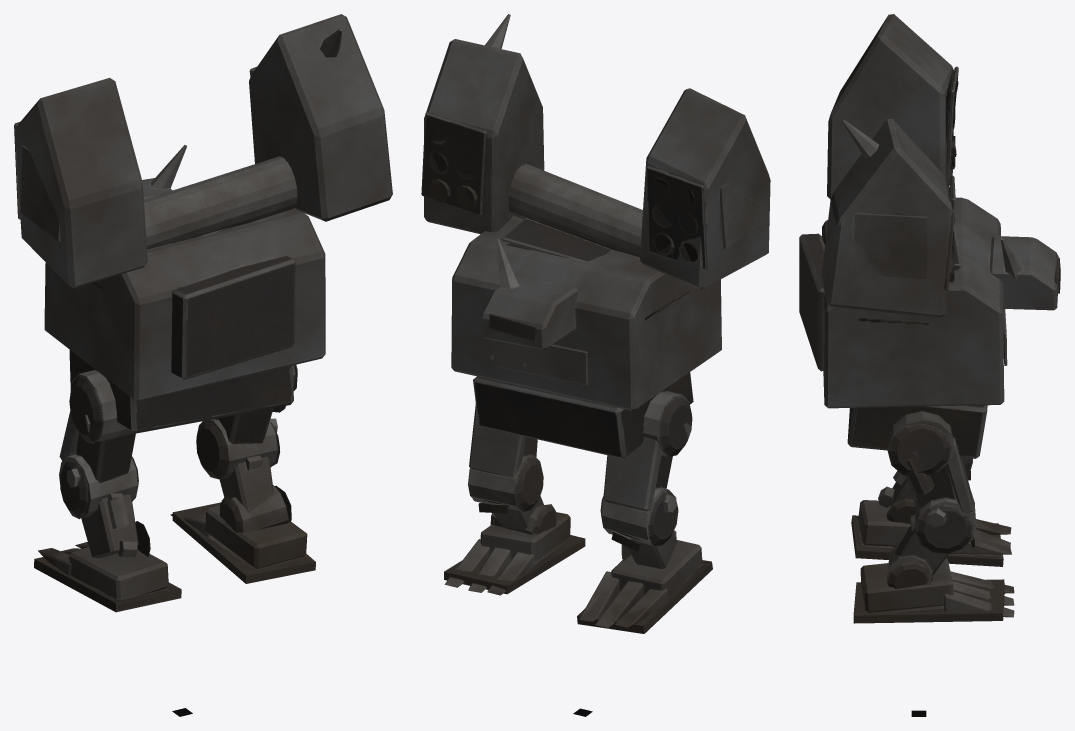
The model's file is chs_gargoyle_wreck.fbx.
3 views of the same model, side by side, from view 1: azimuth 30°, elevation 25°; view 2: azimuth 150°, elevation 25°; view 3: azimuth 270°, elevation 25° (orthographic). The views are drawn at different scales.
Parts seen in each view (by area): view 1: launcher_bar, torso_bar, thighL_bar, base_bar, footL_bar, footR_bar, thighR_bar, shinR_bar, shinL_bar; view 2: launcher_bar, torso_bar, base_bar, thighL_bar, footL_bar, footR_bar, thighR_bar, shinR_bar, shinL_bar; view 3: launcher_bar, torso_bar, thighR_bar, footR_bar, footL_bar, base_bar, shinR_bar, shinL_bar.
Boxes of the visible parts, left/top/right/bottom form: launcher_bar: left=14, top=14, right=392, bottom=288; torso_bar: left=44, top=145, right=325, bottom=401; thighL_bar: left=59, top=370, right=138, bottom=519; base_bar: left=69, top=349, right=293, bottom=433; footL_bar: left=34, top=542, right=181, bottom=612; footR_bar: left=170, top=502, right=315, bottom=583; thighR_bar: left=196, top=364, right=297, bottom=479; shinR_bar: left=219, top=455, right=291, bottom=532; shinL_bar: left=81, top=493, right=150, bottom=558; launcher_bar: left=421, top=14, right=770, bottom=289; torso_bar: left=451, top=215, right=721, bottom=410; base_bar: left=473, top=372, right=693, bottom=458; thighL_bar: left=600, top=391, right=692, bottom=546; footL_bar: left=577, top=540, right=712, bottom=633; footR_bar: left=444, top=512, right=585, bottom=595; thighR_bar: left=468, top=403, right=543, bottom=511; shinR_bar: left=478, top=496, right=556, bottom=534; shinL_bar: left=611, top=530, right=677, bottom=568; launcher_bar: left=821, top=14, right=958, bottom=317; torso_bar: left=799, top=197, right=1060, bottom=408; thighR_bar: left=887, top=411, right=976, bottom=553; footR_bar: left=853, top=558, right=1014, bottom=623; footL_bar: left=851, top=500, right=1011, bottom=566; base_bar: left=847, top=405, right=987, bottom=458; shinR_bar: left=886, top=515, right=974, bottom=588; shinL_bar: left=878, top=471, right=970, bottom=523.
Size of the model in its own units: 475 by 961 by 351.
Materials: 2 (2 with a texture image).
